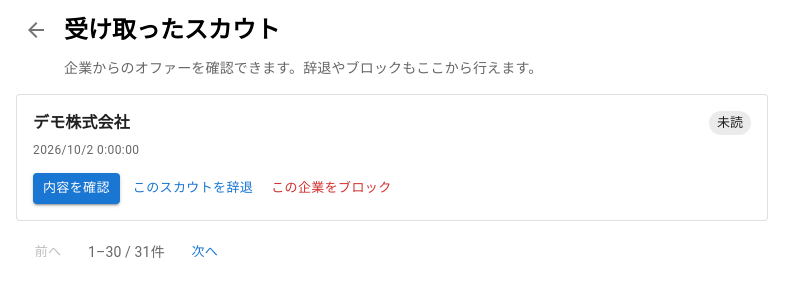
Test case: 学生のスカウト受信箱 › 31件目以降は offset を付けて次ページを読む
Expected: the text "デモ株式会社" is shown, [33, 111, 139, 135]
Click the button "次へ" at (205, 252), box [173, 237, 237, 268]
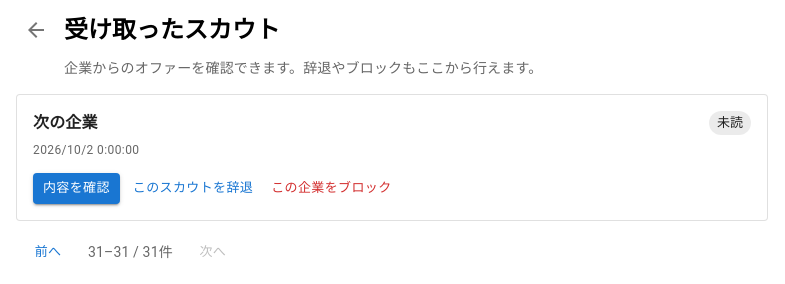
Expected: the text "次の企業" is shown, [33, 113, 98, 132]
